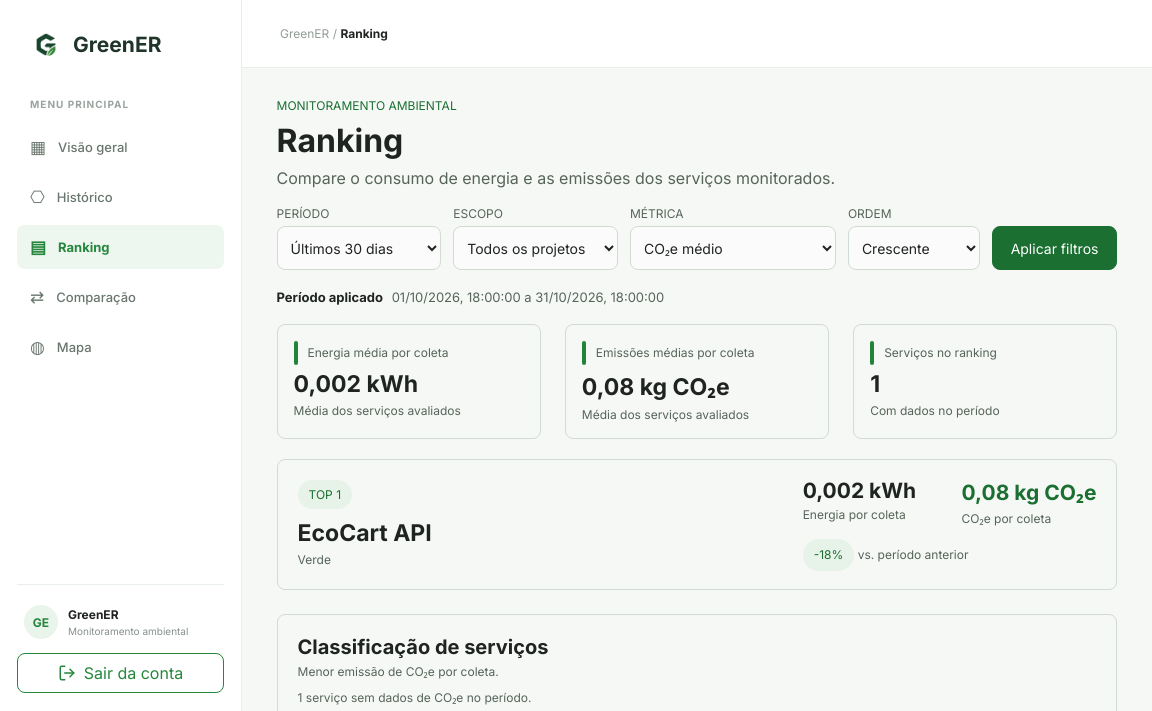
valida datas personalizadas e repete o mesmo intervalo se a consulta falhar
Select "Personalizado" in the dropdown labelled "Período" at (359,248), box top-left (276, 226), bottom-right (441, 270)
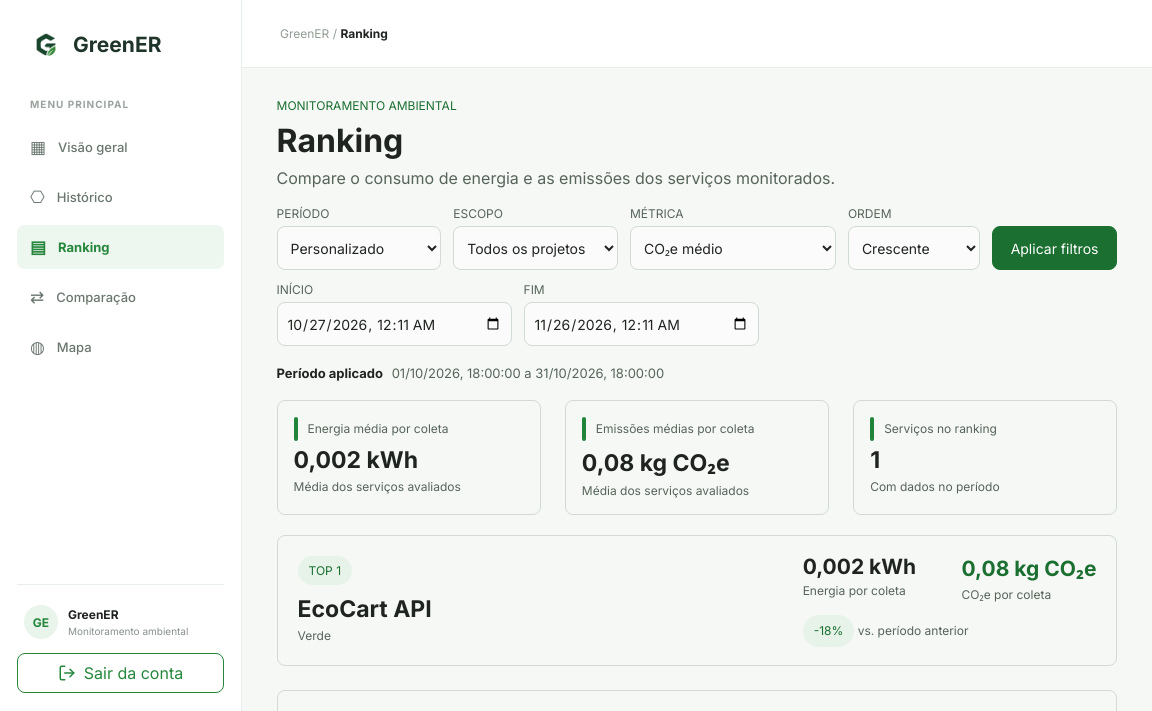
Replace the text in the field labelled "Início" with "2026-10-10T10:00" at (394,324), box top-left (276, 302), bottom-right (512, 346)
Replace the text in the field labelled "Fim" with "2026-10-09T10:00" at (641,324), box top-left (524, 302), bottom-right (758, 346)
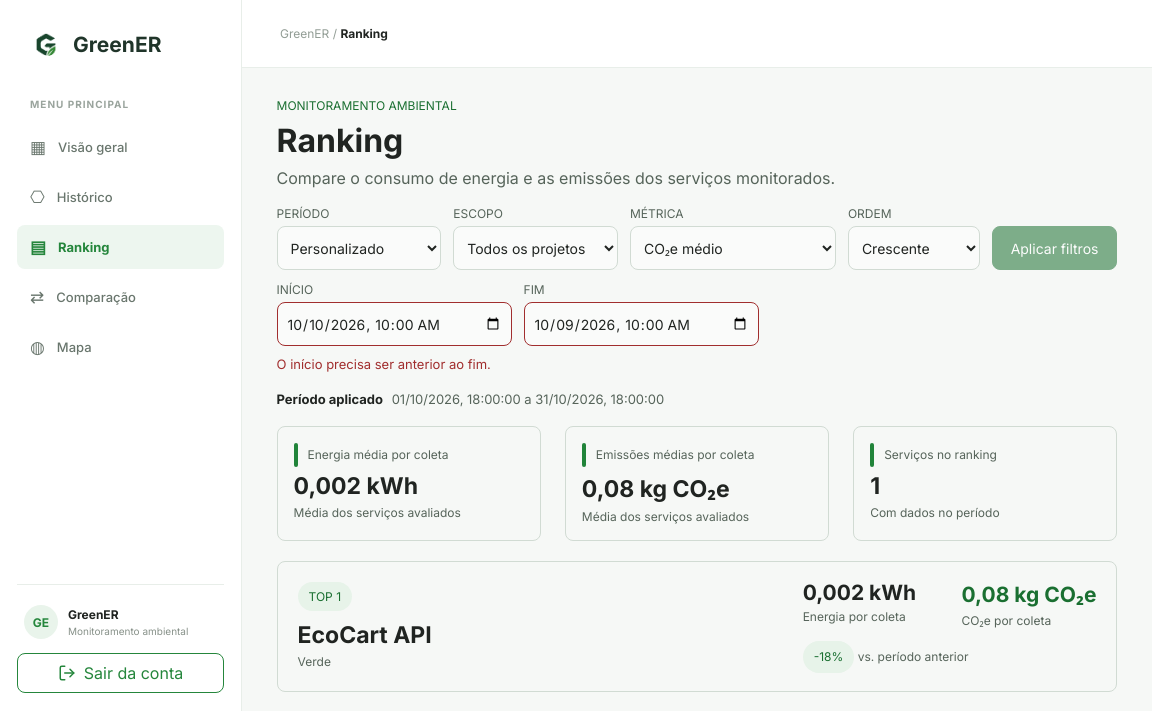
Expected: the message reads "O início precisa ser anterior ao fim.", top-left (276, 356), bottom-right (491, 372)
Expected: the button "Aplicar filtros" is disabled, top-left (992, 226), bottom-right (1117, 270)
Replace the text in the field labelled "Fim" with "2026-10-11T10:00" at (641,324), box top-left (524, 302), bottom-right (758, 346)
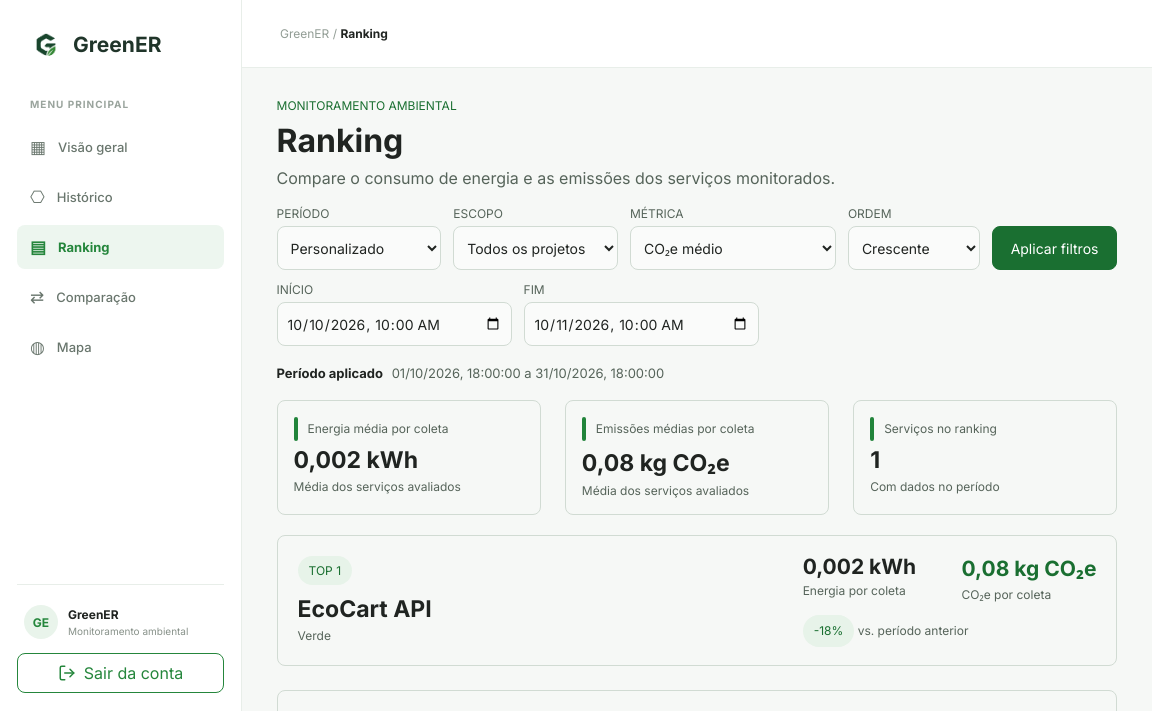
Click the button "Aplicar filtros" at (1054,248), box top-left (992, 226), bottom-right (1117, 270)
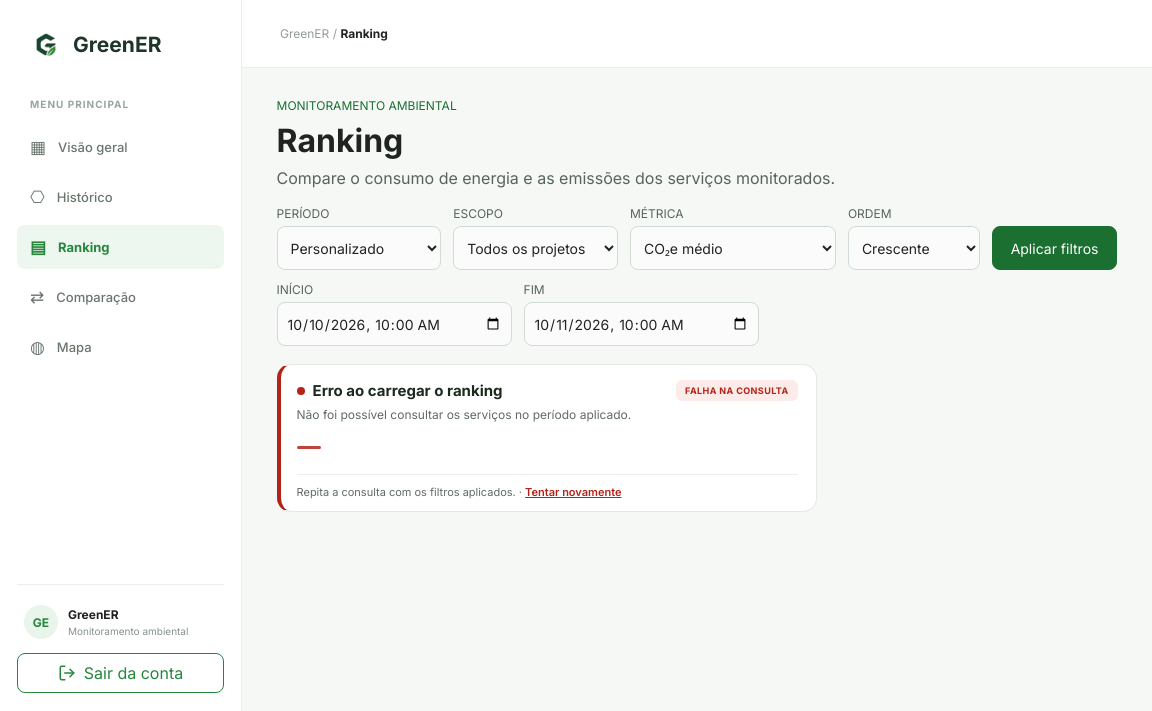
Expected: the heading "Erro ao carregar o ranking" is shown, top-left (296, 381), bottom-right (502, 400)
Select "Últimos 7 dias" in the dropdown labelled "Período" at (359,248), box top-left (276, 226), bottom-right (441, 270)
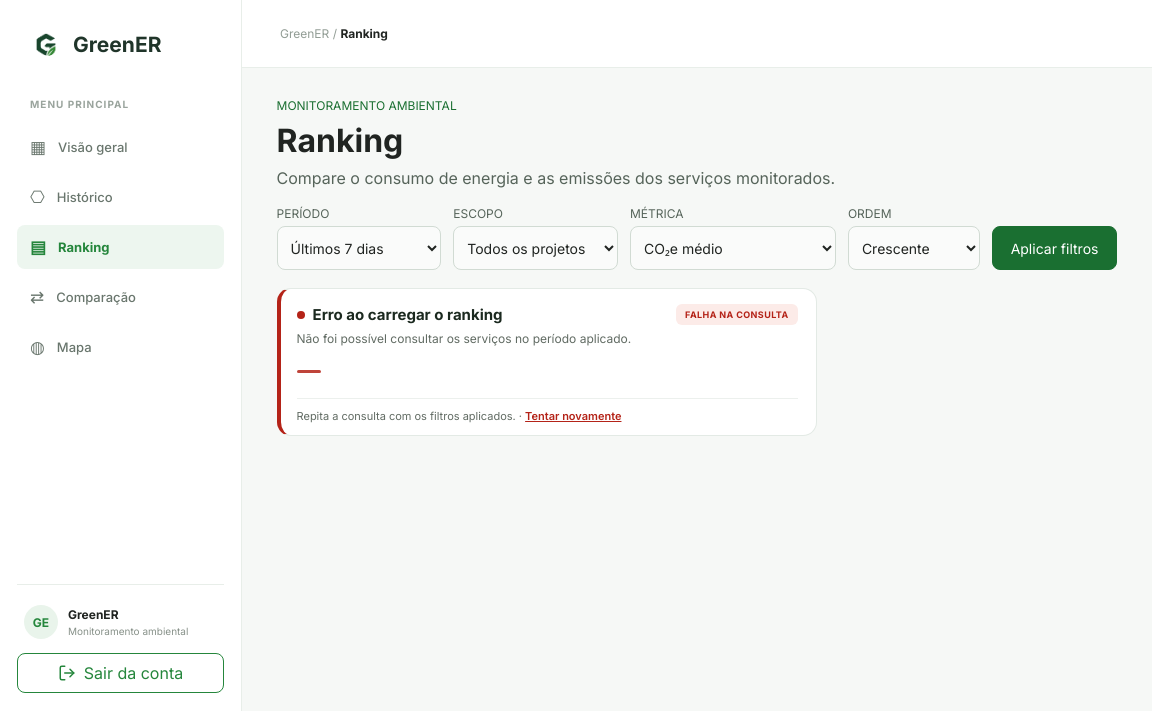
Click the button "Tentar novamente" at (573,416), box top-left (525, 409), bottom-right (622, 423)
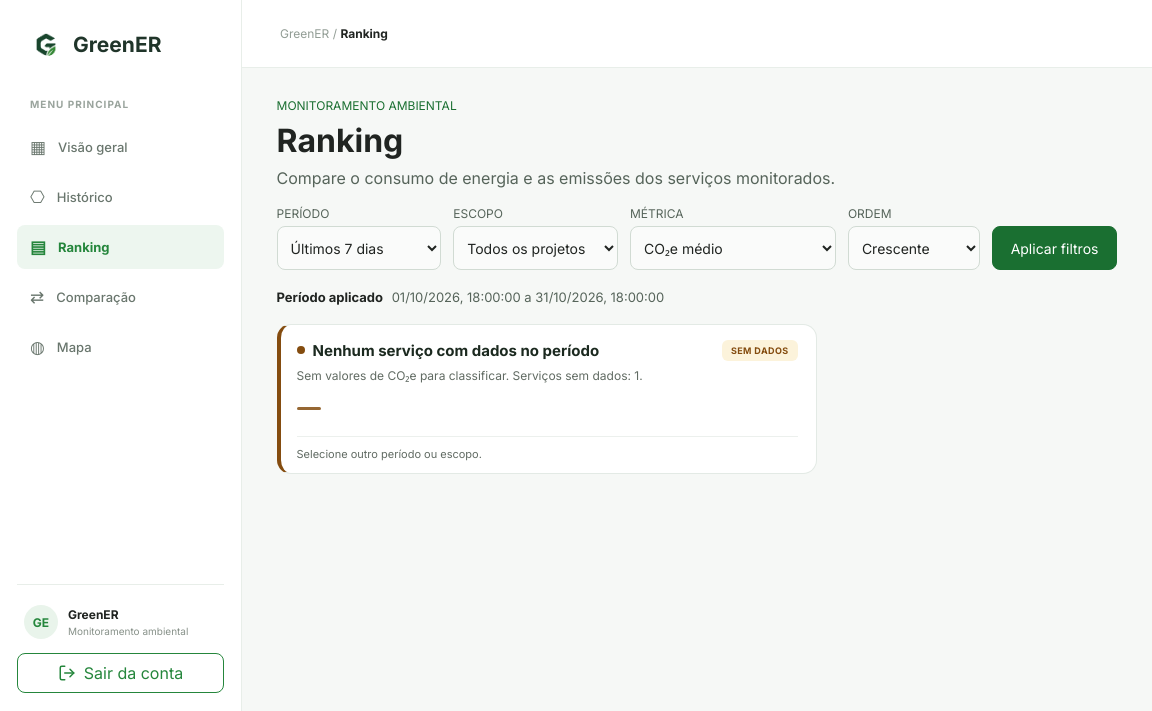
Expected: the text "Período aplicado" is shown, top-left (276, 289), bottom-right (383, 305)
Expected: the heading "Nenhum serviço com dados no período" is shown, top-left (296, 340), bottom-right (599, 360)
